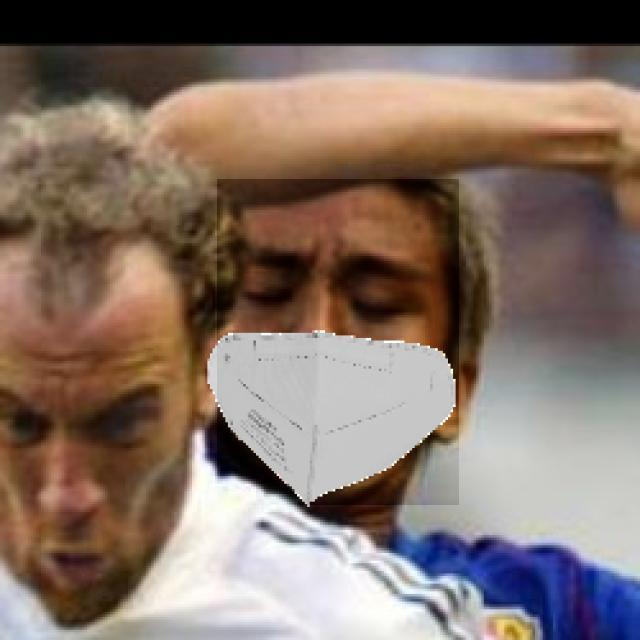kn95: (217, 179, 459, 505)
